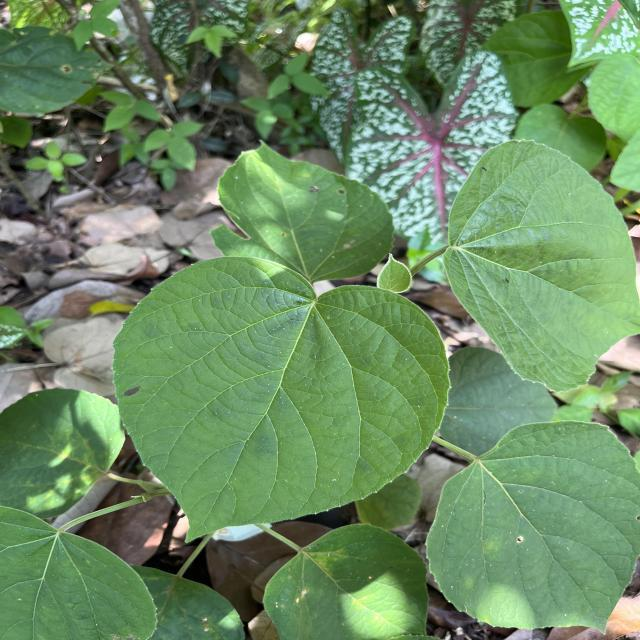Clerodendrum infortunatum: (108, 253, 454, 547), (442, 136, 640, 394), (423, 419, 640, 637), (208, 137, 396, 286)
